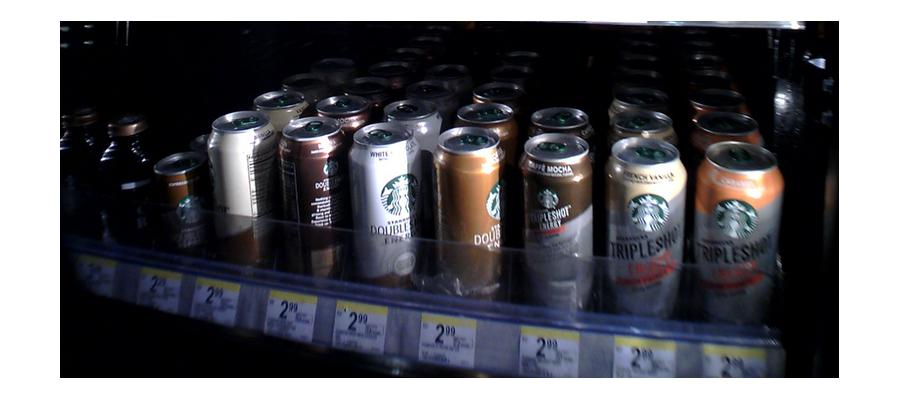bottle: (603, 138, 687, 324), (694, 141, 777, 327), (522, 129, 592, 323), (431, 128, 504, 301), (348, 123, 421, 287), (204, 110, 274, 269), (280, 115, 345, 278), (92, 111, 149, 253), (153, 146, 200, 254)
